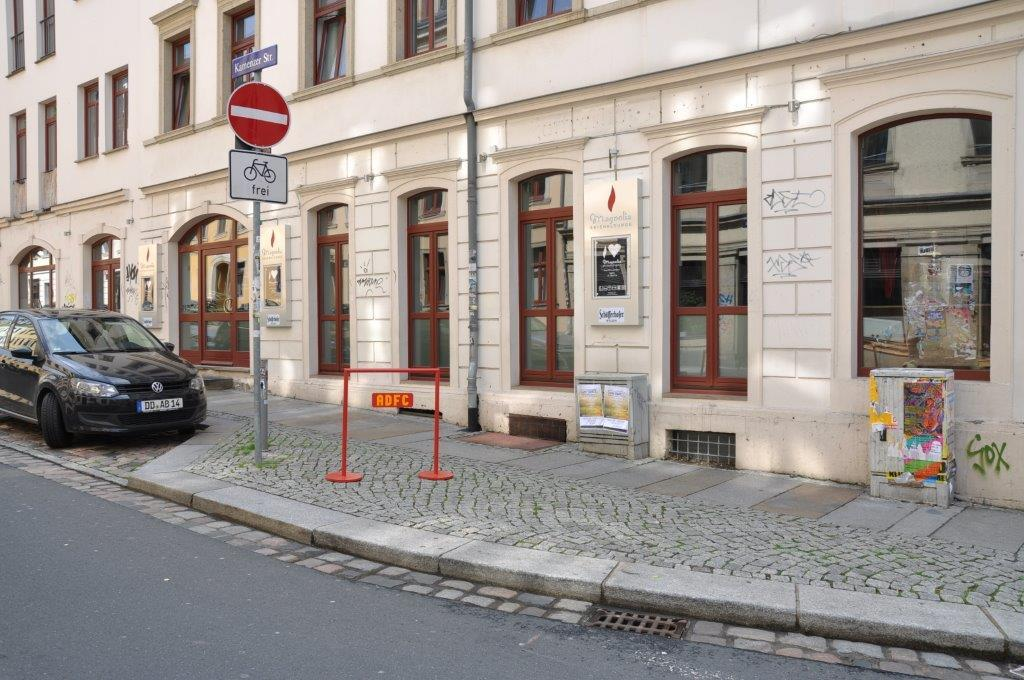Car: (0, 309, 208, 445)
